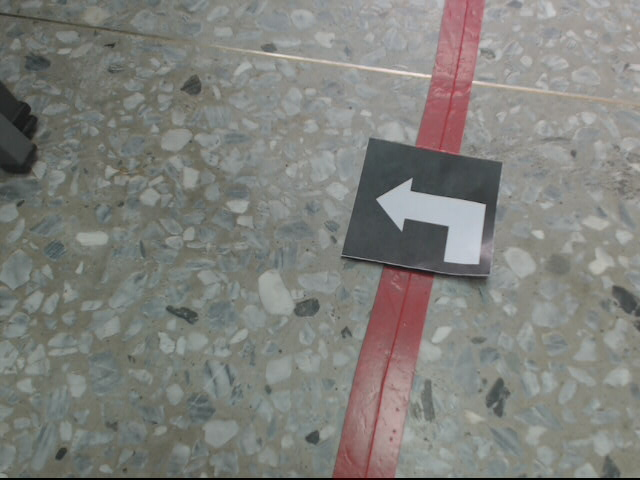left: (337, 138, 502, 280)
